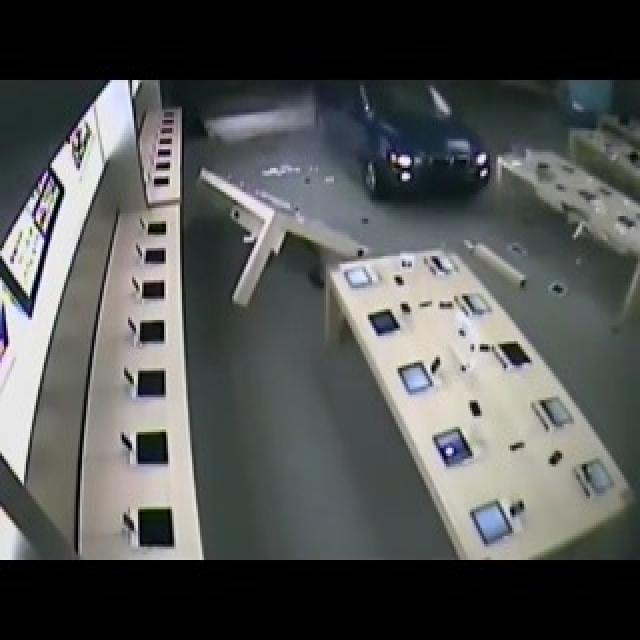burglary: (313, 86, 500, 221)
